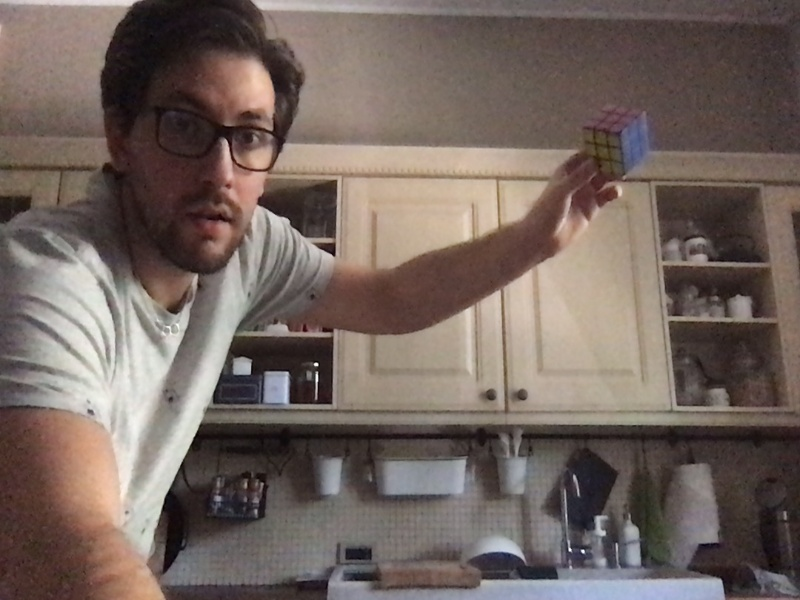rubik: (583, 101, 652, 179)
